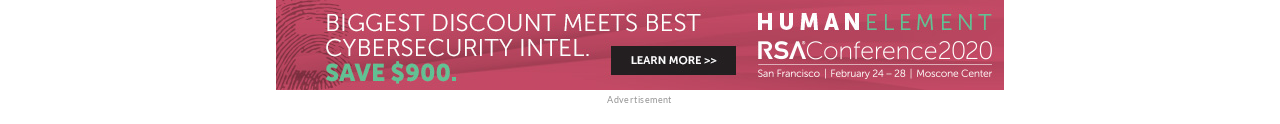fake_button: (605, 35, 744, 85)
